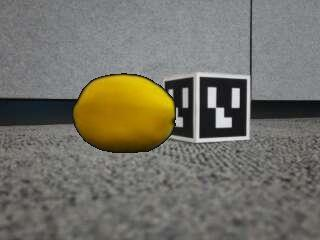lemon: (73, 75, 175, 152)
